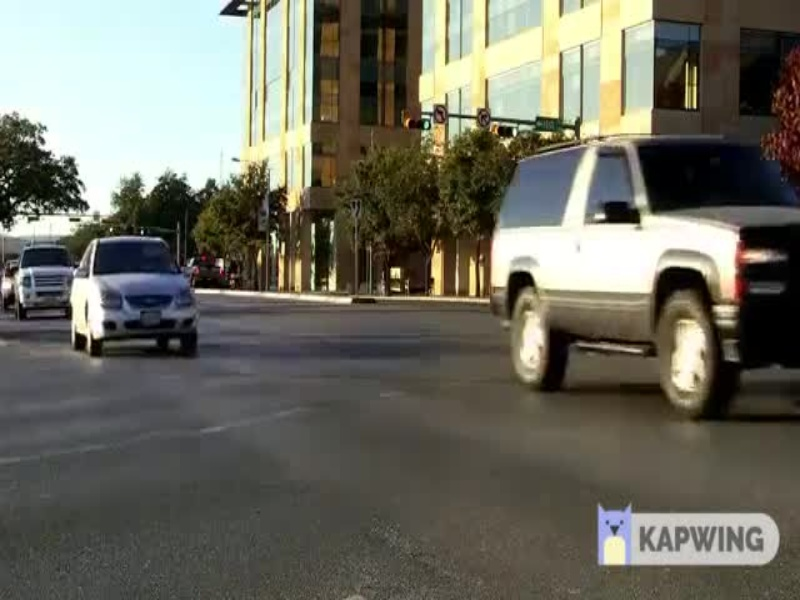car: (478, 127, 800, 416), (66, 226, 199, 369)
